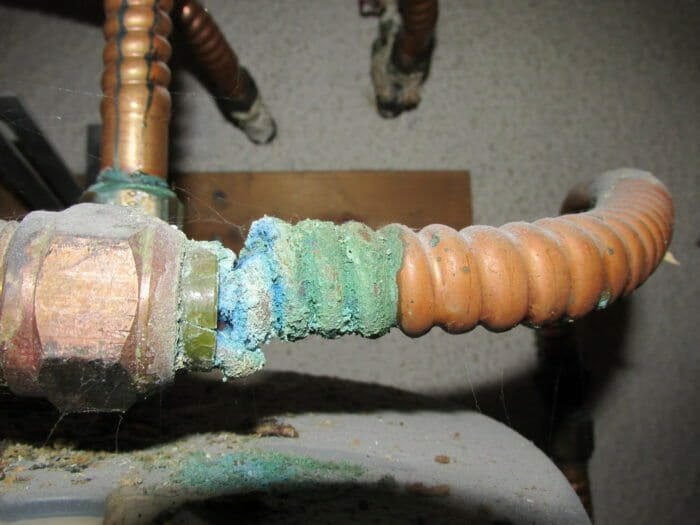Severe: (171, 180, 409, 386)
